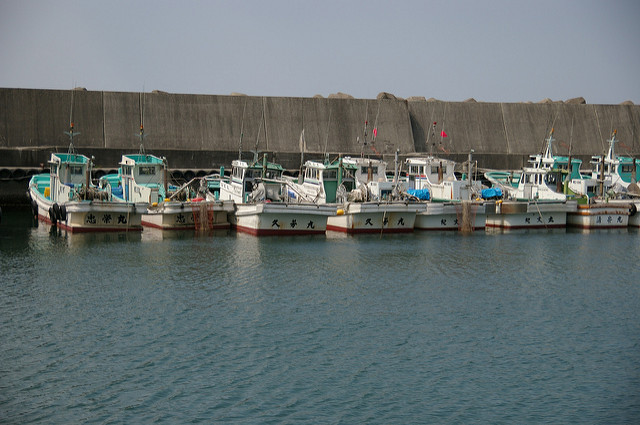fishing_boat: (28, 114, 143, 237), (103, 123, 229, 231), (419, 149, 567, 223), (496, 139, 618, 226), (219, 136, 328, 233), (305, 153, 414, 228)
